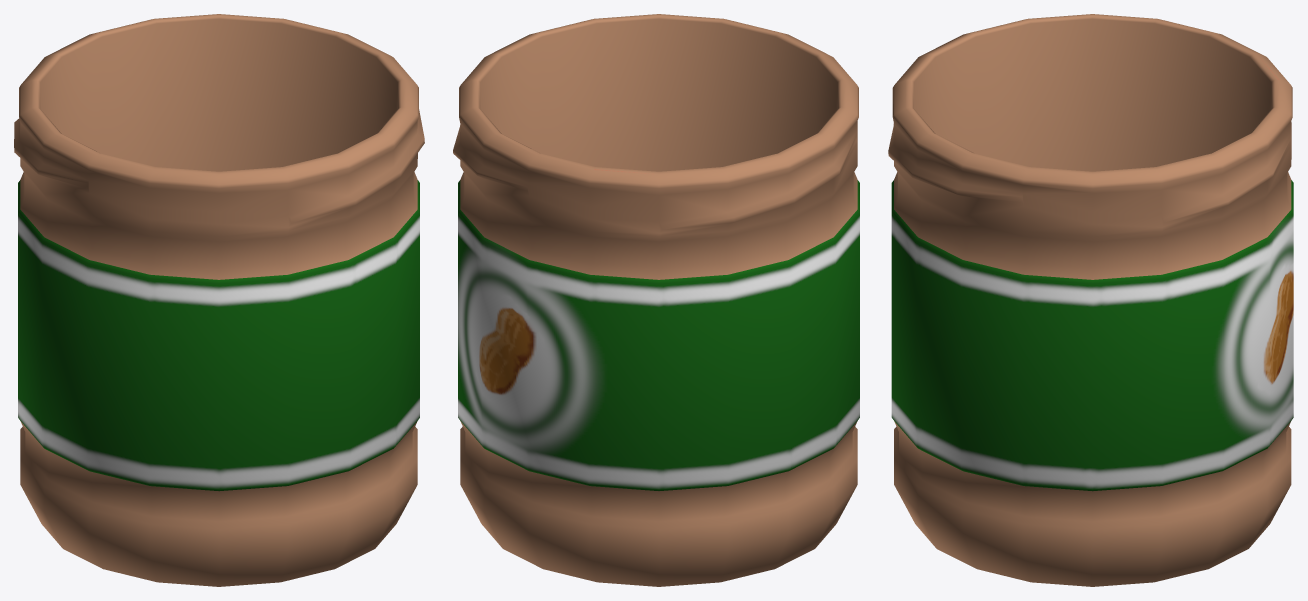
The model's file is PeanutButter.fbx.
The picture shows the model from 3 angles, left to right: view 1: azimuth 30°, elevation 25°; view 2: azimuth 150°, elevation 25°; view 3: azimuth 270°, elevation 25°; orthographic projection.
Parts seen in each view (by area): view 1: Peanutbutter; view 2: Peanutbutter; view 3: Peanutbutter.
Part boxes in pixels (x1=…): Peanutbutter: x1=14, y1=14, x2=424, y2=586; Peanutbutter: x1=453, y1=14, x2=859, y2=586; Peanutbutter: x1=888, y1=14, x2=1293, y2=586.
Size of the model in its own units: 218 by 246 by 214.
